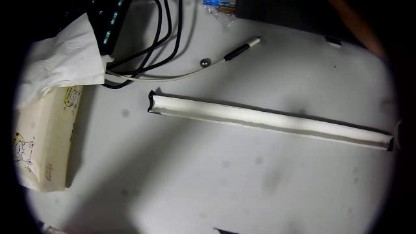gangzhu: (198, 57, 209, 68)
